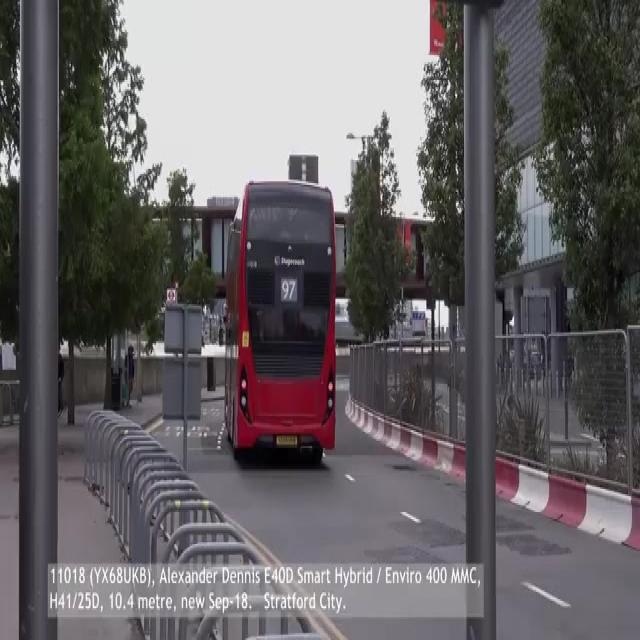bus: (223, 179, 343, 467)
